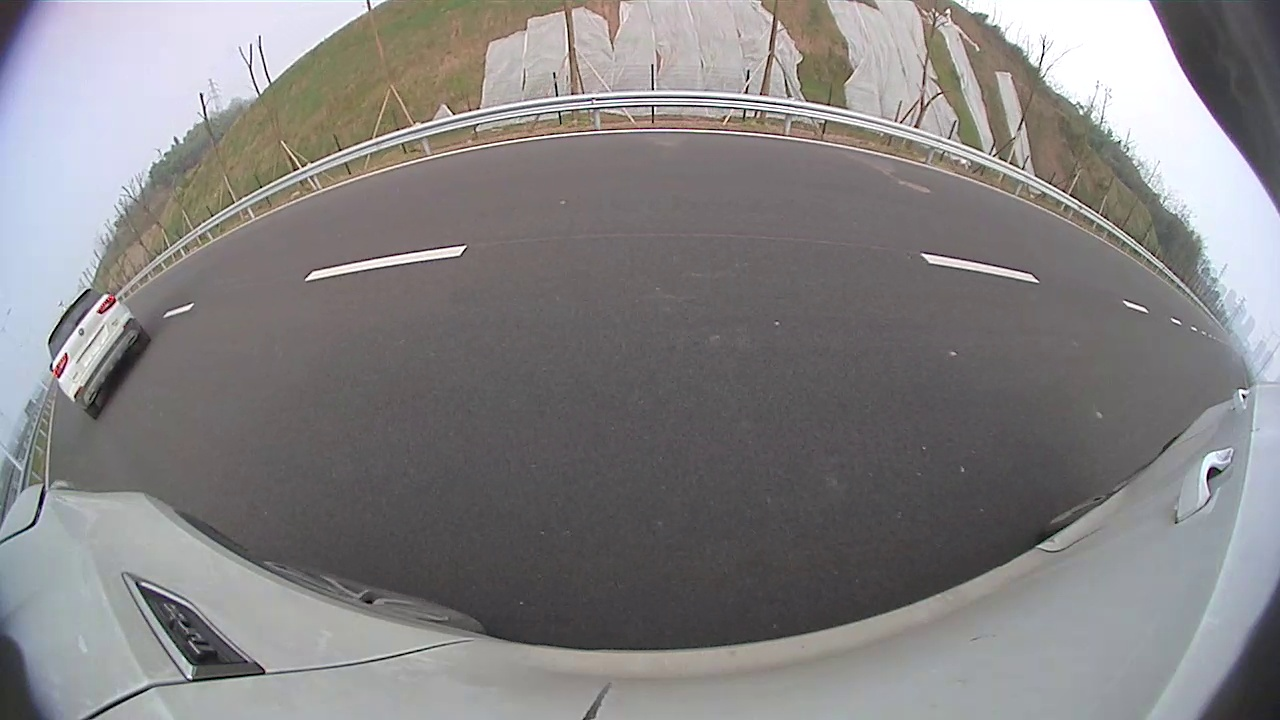car: (377, 121, 569, 251)
front: (553, 174, 569, 211)
rear: (498, 184, 525, 237)
